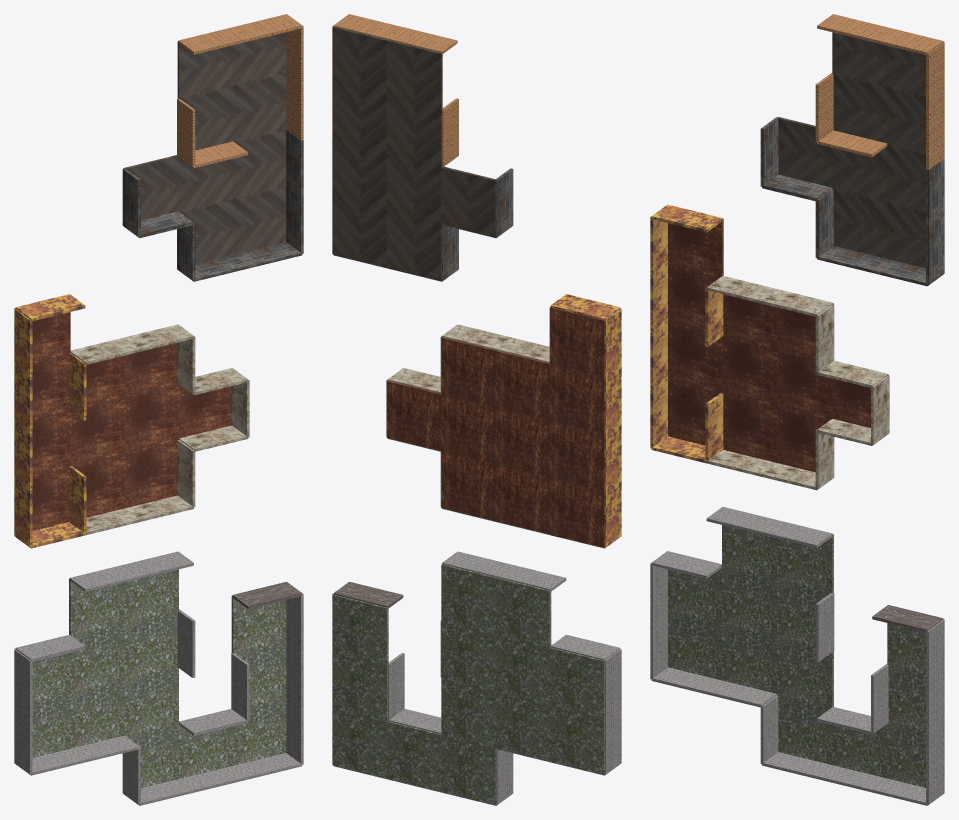
Rendered from room3.gltf.
The picture shows the model from 3 angles, left to right: view 1: azimuth 30°, elevation 25°; view 2: azimuth 150°, elevation 25°; view 3: azimuth 330°, elevation 25°; orthographic projection.
Parts seen in each view (by area): view 1: Cube.129, Cube.092, Cube.093, Cube.105, Cube.091, Cube.103, Cube.128, Cube.126, Cube.090, Cube.104, Cube.097, Cube.107 (+69 smaller); view 2: Cube.099, Cube.089, Cube.100, Cube.088, Cube.107, Cube.121, Cube.087, Cube.098, Cube.124, Cube.095, Cube.122, Cube.123 (+43 smaller); view 3: Cube.090, Cube.126, Cube.092, Cube.091, Cube.102, Cube.106, Cube.087, Cube.125, Cube.123, Cube.129, Cube.095, Cube.100 (+69 smaller).
Boxes of the visible parts, bbox=[...] form: Cube.129: bbox=[124, 383, 178, 452]; Cube.092: bbox=[124, 667, 178, 736]; Cube.093: bbox=[124, 610, 177, 679]; Cube.105: bbox=[233, 73, 286, 142]; Cube.091: bbox=[70, 680, 124, 748]; Cube.103: bbox=[233, 186, 286, 254]; Cube.128: bbox=[124, 440, 177, 508]; Cube.126: bbox=[70, 396, 124, 465]; Cube.090: bbox=[70, 623, 124, 693]; Cube.104: bbox=[233, 130, 286, 199]; Cube.097: bbox=[233, 697, 286, 765]; Cube.107: bbox=[177, 41, 233, 98]; Cube.099: bbox=[332, 594, 388, 664]; Cube.089: bbox=[495, 577, 551, 647]; Cube.100: bbox=[441, 166, 496, 237]; Cube.088: bbox=[549, 647, 604, 717]; Cube.107: bbox=[387, 40, 442, 110]; Cube.121: bbox=[549, 307, 604, 377]; Cube.087: bbox=[549, 705, 604, 774]; Cube.098: bbox=[332, 652, 387, 721]; Cube.124: bbox=[549, 478, 604, 547]; Cube.095: bbox=[441, 735, 496, 804]; Cube.122: bbox=[549, 364, 604, 433]; Cube.123: bbox=[549, 421, 604, 490]; Cube.090: bbox=[722, 566, 776, 637]; Cube.126: bbox=[722, 336, 776, 406]; Cube.092: bbox=[777, 637, 833, 708]; Cube.091: bbox=[722, 624, 776, 693]; Cube.102: bbox=[833, 189, 887, 258]; Cube.106: bbox=[833, 74, 887, 143]; Cube.087: bbox=[668, 611, 721, 680]; Cube.125: bbox=[723, 393, 776, 462]; Cube.123: bbox=[668, 322, 721, 392]; Cube.129: bbox=[777, 349, 832, 419]; Cube.095: bbox=[778, 695, 832, 764]; Cube.100: bbox=[778, 117, 832, 187].
Bounding box in the file's own units: 20.2 × 52.2 × 2.1.
9 materials, 9 textured.
